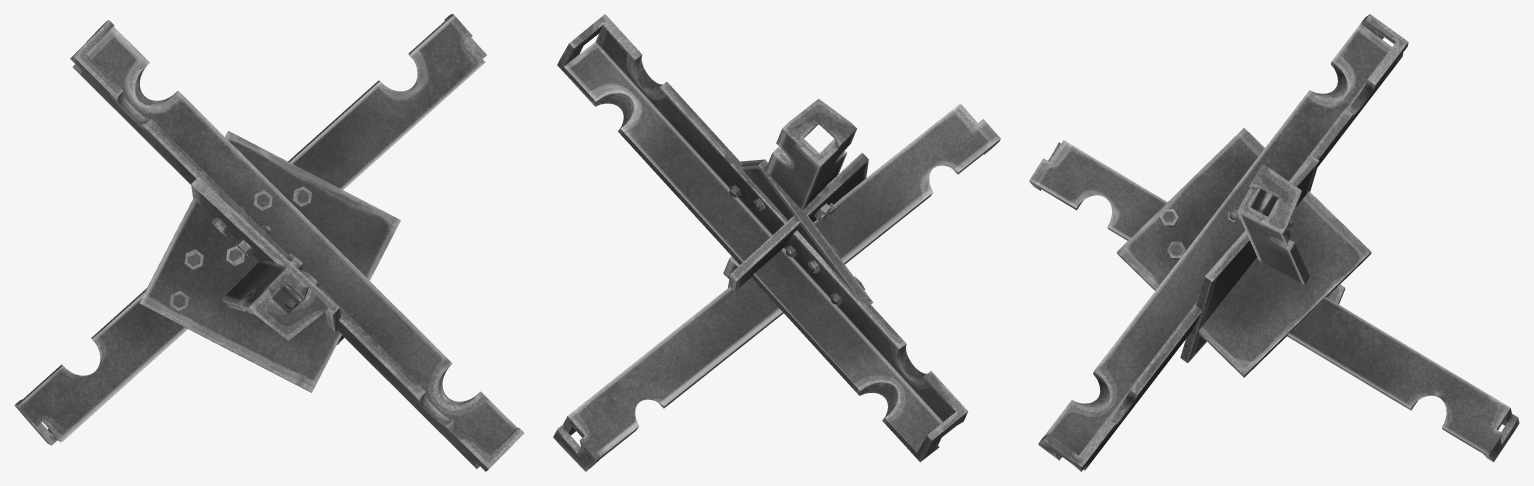
The model's file is barricada.fbx.
The picture shows the model from 3 angles, left to right: view 1: azimuth 30°, elevation 25°; view 2: azimuth 150°, elevation 25°; view 3: azimuth 270°, elevation 25°; orthographic projection. The views are drawn at different scales.
Visible parts, largest first — view 1: Barricada; view 2: Barricada; view 3: Barricada.
Part boxes in pixels (x1,y1,x2,y2): Barricada: (14,14,524,471); Barricada: (553,14,1000,471); Barricada: (1029,14,1519,471).
Size of the model in its own units: 1828 by 1525 by 1852.
1 material, 1 textured.
